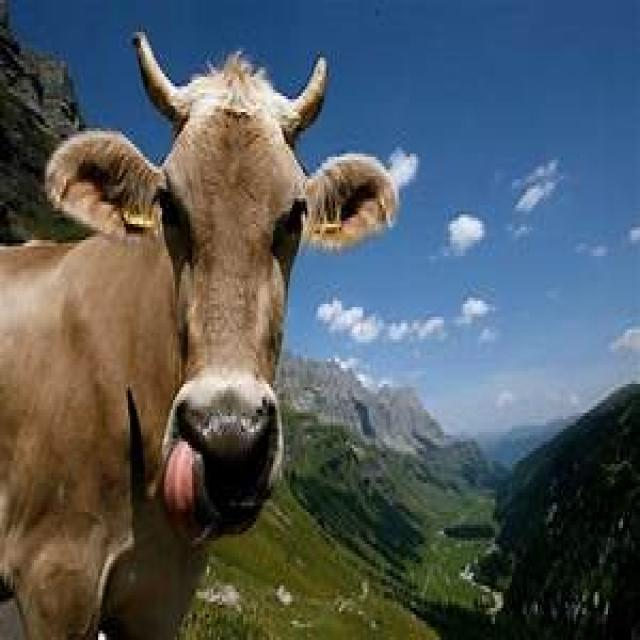cow: (0, 34, 398, 638)
